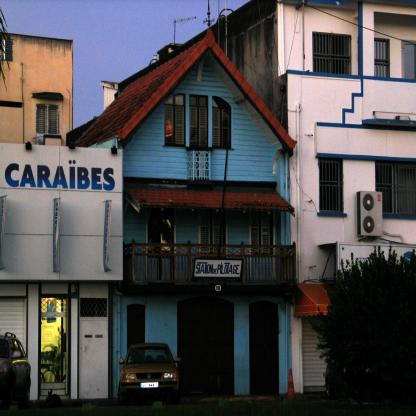Car: (118, 338, 182, 404), (0, 331, 31, 409)
